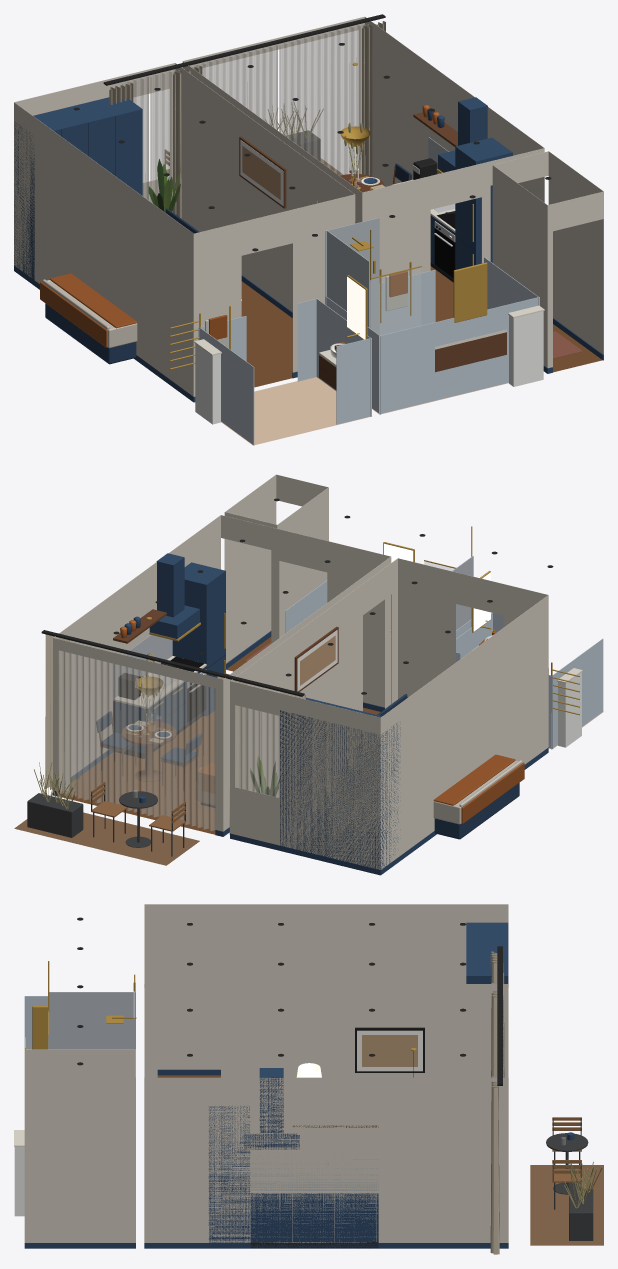
Rendered from unit-1.A-lisboa.glb.
3 views of the same model, one above another, from view 1: azimuth 30°, elevation 25°; view 2: azimuth 150°, elevation 25°; view 3: azimuth 270°, elevation 25° (orthographic). The views are drawn at different scales.
Visible parts, largest first — view 1: int-wall, int-bathWall, int-sheer, int-joineryTall, int-floor, int-bathFloor, int-whiteGloss, int-showerWall, int-metal, int-wood, int-curtain, int-joinery (+12 smaller); view 2: int-wall, int-sheer, int-joineryTall, int-floor, int-joinery, int-bathWall, int-curtain, int-deck, int-outdoor, int-bedThrow, int-wood, int-matteBlack (+14 smaller); view 3: int-wall, int-joinery, int-joineryTall, int-showerWall, int-deck, int-curtain, int-outdoor, int-splash, int-art:1:0, int-matteBlack, int-metal, int-teak (+5 smaller).
Boxes of the visible parts, x1,y1,x2,y2 form: int-wall: [14, 16, 603, 396]; int-bathWall: [198, 257, 539, 445]; int-sheer: [122, 23, 365, 211]; int-joineryTall: [14, 97, 512, 285]; int-floor: [241, 266, 453, 387]; int-bathFloor: [221, 377, 508, 445]; int-whiteGloss: [195, 311, 543, 424]; int-showerWall: [325, 218, 379, 334]; int-metal: [169, 62, 487, 369]; int-wood: [164, 112, 506, 389]; int-curtain: [109, 21, 385, 218]; int-joinery: [14, 97, 603, 402]; int-wall: [53, 474, 548, 869]; int-sheer: [58, 650, 279, 830]; int-joineryTall: [172, 562, 400, 874]; int-floor: [60, 673, 380, 834]; int-joinery: [53, 553, 548, 875]; int-bathWall: [285, 580, 603, 749]; int-curtain: [45, 634, 305, 834]; int-deck: [14, 812, 199, 865]; int-outdoor: [27, 783, 185, 856]; int-bedThrow: [433, 754, 524, 823]; int-wood: [113, 609, 408, 781]; int-matteBlack: [41, 630, 304, 758]; int-wall: [24, 904, 508, 1242]; int-joinery: [24, 1068, 508, 1248]; int-joineryTall: [208, 922, 508, 1248]; int-showerWall: [48, 991, 135, 1049]; int-deck: [530, 1165, 603, 1245]; int-curtain: [490, 951, 499, 1254]; int-outdoor: [546, 1118, 593, 1240]; int-splash: [250, 1152, 378, 1191]; int-art:1:0: [362, 1035, 417, 1066]; int-matteBlack: [250, 946, 502, 1248]; int-metal: [25, 961, 416, 1149]; int-teak: [552, 1117, 581, 1182].
Size of the model in its own units: 6.62 by 2.8 by 8.41.
